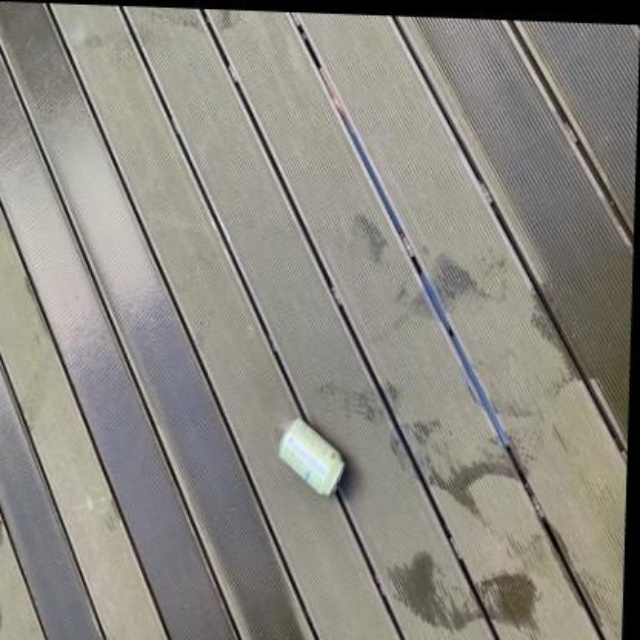trash: (278, 418, 343, 494)
